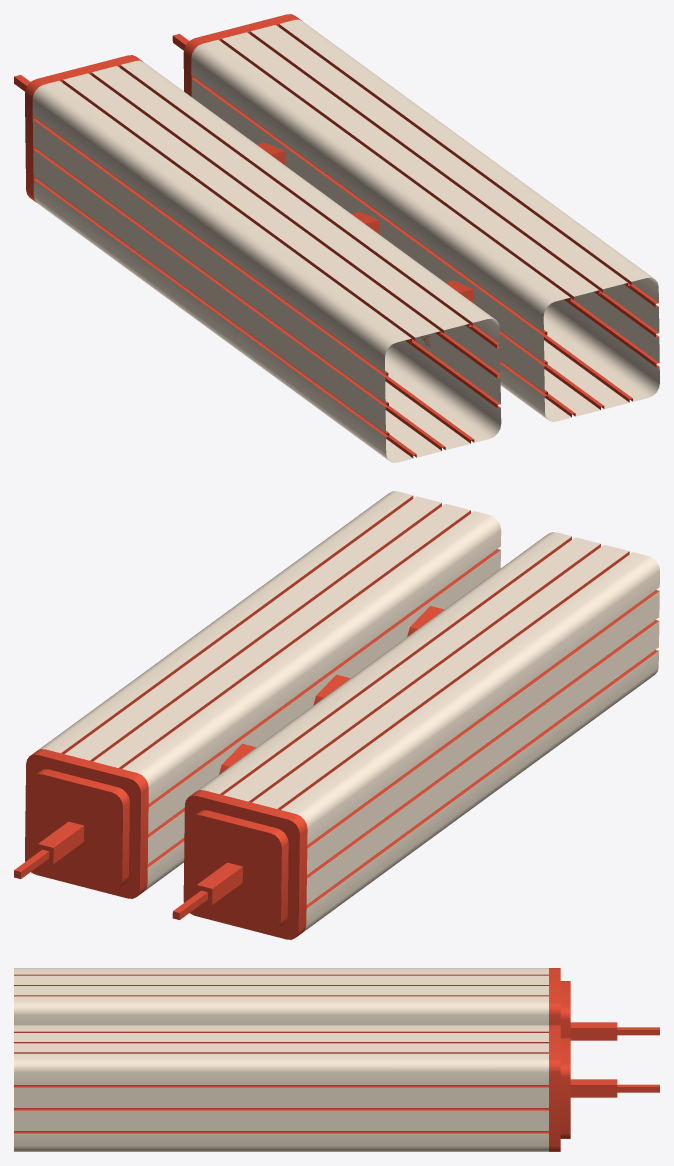
Rendered from Building04.fbx.
3 renders of one model, top to bottom at view 1: azimuth 30°, elevation 25°; view 2: azimuth 150°, elevation 25°; view 3: azimuth 270°, elevation 25°, orthographic. The views are drawn at different scales.
Parts seen in each view (by area): view 1: c034; view 2: c034; view 3: c034.
Part boxes in pixels (x1,y1,x2,y2): c034: (14,14,659,462); c034: (14,491,659,939); c034: (14,968,659,1151).
Bounding box in the file's own units: 1434 × 618 × 3845.
